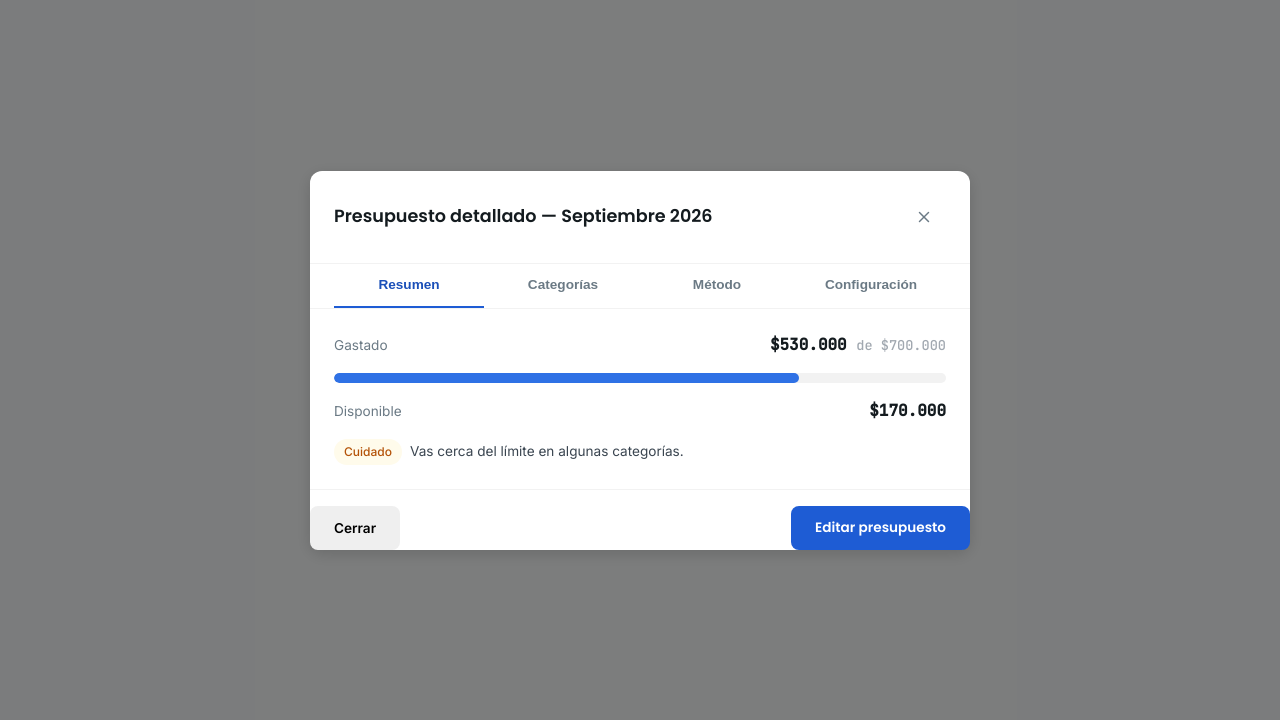
Test case: BudgetDetailModal › VIEW mode › switches to edit mode when Editar presupuesto is clicked
What coordinates should you click on to do the following:
click the button "Editar presupuesto"
I would click on:
 (881, 528)
Its box is [791,506,970,550].
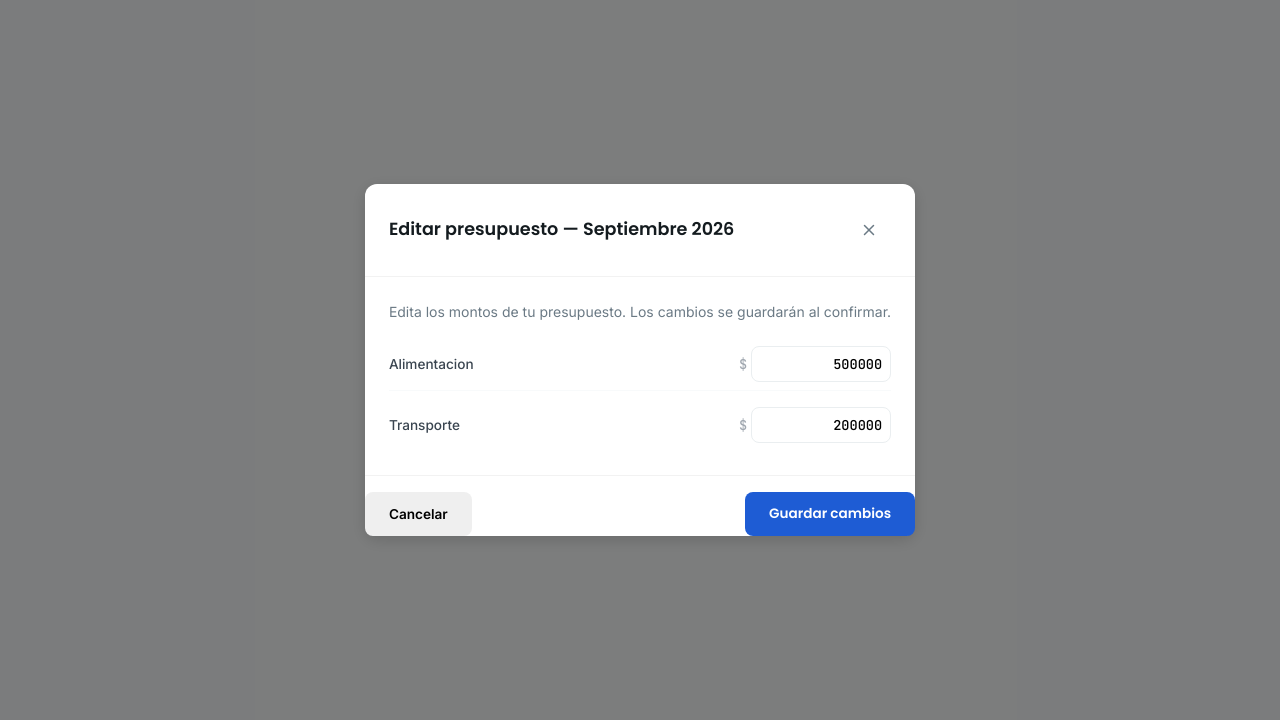
Expected: the element with class "bdm-form-list" is shown, [389,338,891,451]
Expected: the text "Edita los montos" is shown, [389,303,891,320]
